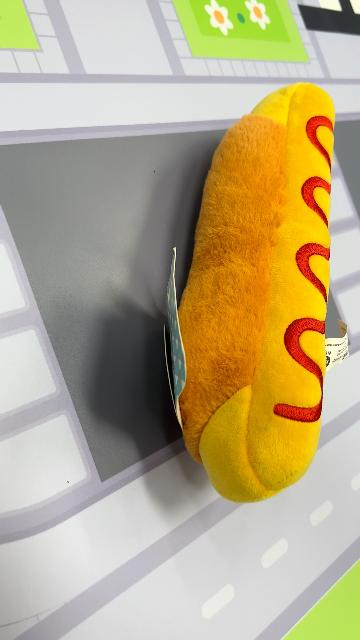hotdog: (171, 81, 339, 505)
